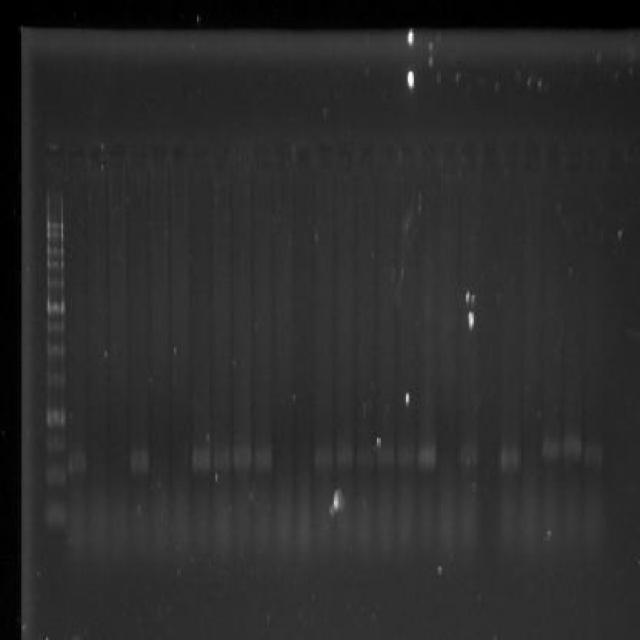B: (189, 432, 211, 476), (496, 442, 522, 476), (457, 441, 480, 477), (583, 436, 605, 472), (540, 428, 562, 463), (232, 440, 252, 478), (128, 444, 150, 478), (562, 432, 584, 465), (415, 441, 437, 474), (313, 441, 335, 474), (66, 446, 88, 477), (212, 442, 232, 476), (396, 439, 416, 472), (376, 441, 396, 474), (253, 443, 273, 474), (336, 440, 354, 474), (356, 441, 374, 470)
L: (41, 123, 628, 188)
M: (42, 188, 68, 544)
P: (44, 494, 68, 534), (44, 461, 66, 488), (45, 432, 67, 456), (46, 404, 66, 430), (44, 273, 66, 295), (46, 340, 66, 362), (46, 370, 66, 390), (46, 296, 66, 316), (46, 318, 66, 337), (46, 256, 66, 273), (46, 241, 66, 257), (46, 216, 66, 232), (44, 228, 64, 241)
Pc: (460, 130, 482, 178), (482, 130, 502, 178), (188, 129, 210, 171), (502, 132, 522, 178), (438, 136, 460, 176), (542, 134, 564, 174), (603, 138, 626, 176), (522, 134, 542, 177), (375, 136, 397, 173), (231, 138, 252, 176), (398, 138, 420, 174), (126, 135, 146, 171), (296, 134, 316, 170), (168, 133, 188, 169), (564, 134, 582, 174), (420, 132, 437, 174), (316, 135, 335, 171), (274, 134, 294, 168), (583, 140, 603, 174), (336, 134, 354, 171), (86, 140, 105, 174), (253, 134, 272, 168), (46, 138, 63, 174), (148, 134, 166, 168), (212, 136, 230, 170), (356, 138, 374, 172), (106, 138, 125, 168), (68, 140, 84, 173)
